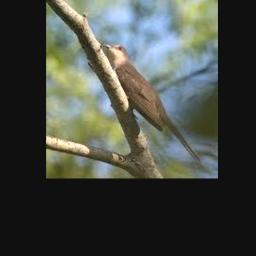Cuckoo: (103, 43, 200, 164)
